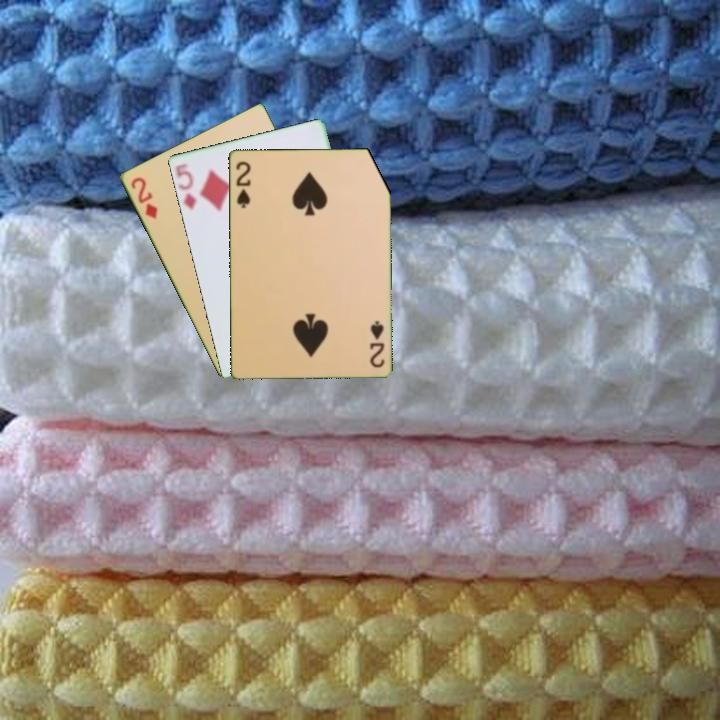2d: (127, 173, 160, 222)
2s: (232, 158, 253, 211), (366, 317, 387, 370)
5d: (172, 162, 200, 213)
